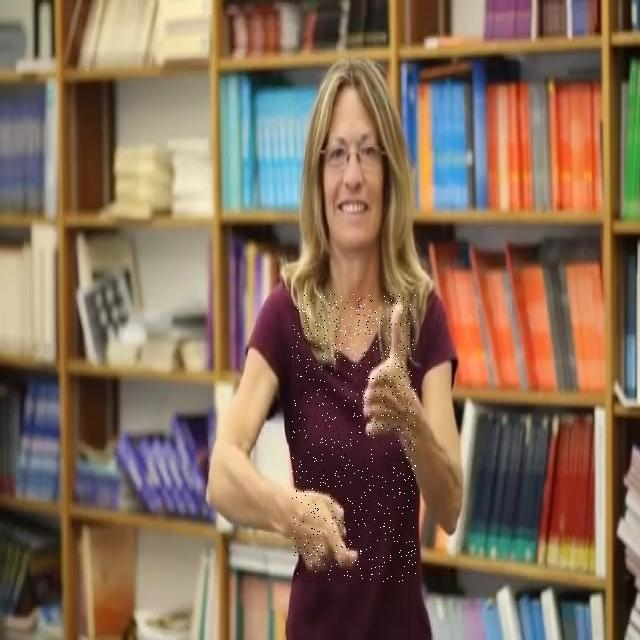cost: (292, 294, 416, 582)
